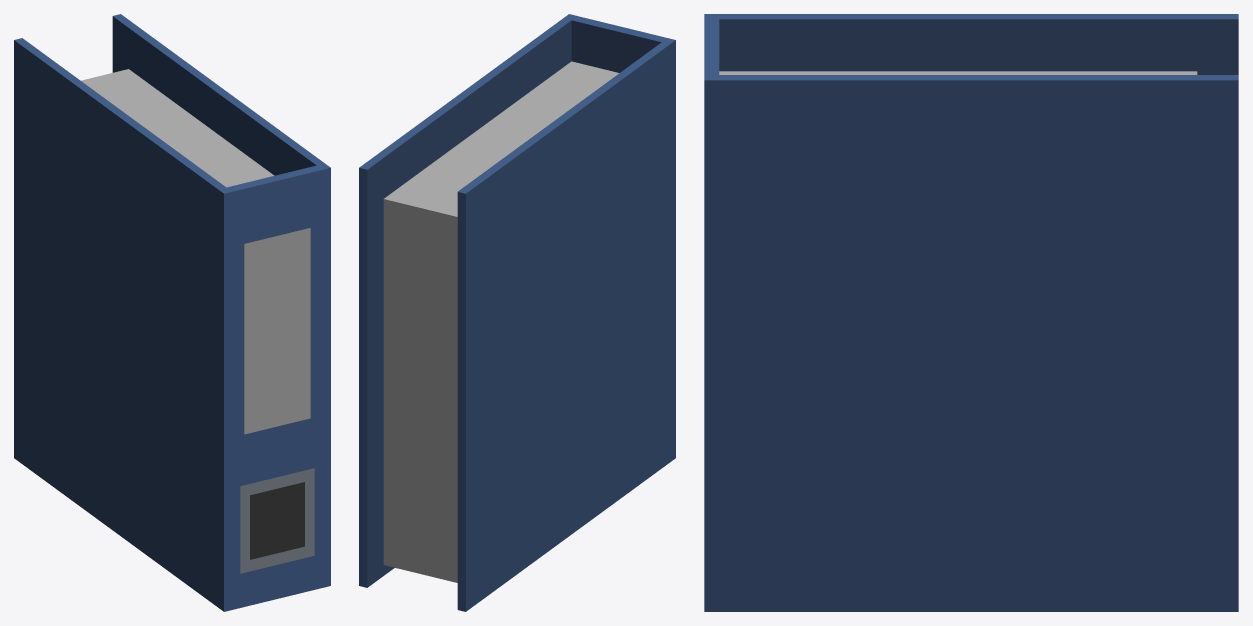
File: SO_Boxfile_01.fbx
3 renders of one model, left to right at view 1: azimuth 30°, elevation 25°; view 2: azimuth 150°, elevation 25°; view 3: azimuth 270°, elevation 25°, orthographic. The views are drawn at different scales.
Parts seen in each view (by area): view 1: SO_Boxfile_01; view 2: SO_Boxfile_01; view 3: SO_Boxfile_01.
Part boxes in pixels (<box>): SO_Boxfile_01: <box>14,14,330,611</box>; SO_Boxfile_01: <box>359,14,675,611</box>; SO_Boxfile_01: <box>704,14,1238,611</box>.
Bounding box in the file's own units: 0.1745 × 0.6529 × 0.5946.
